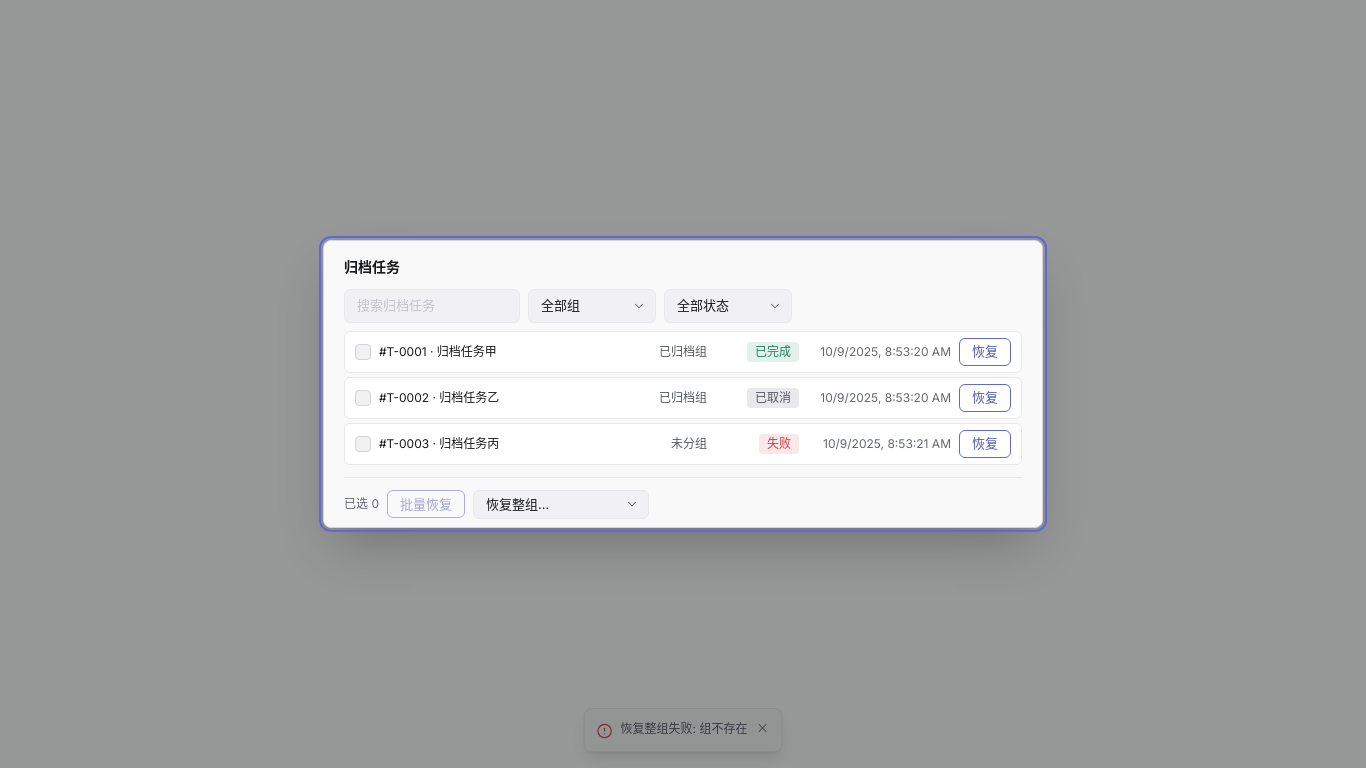
Test case: ArchivePanel › 单条恢复失败：toast 提示且行保留
This screenshot has width=1366, height=768.
Expected: the text "#T-0001 · 归档任务甲" is shown, [379,344,497,358]
Click the button "恢复" in the row of "已完成" at x=985, y=352, box [959,338,1011,366]
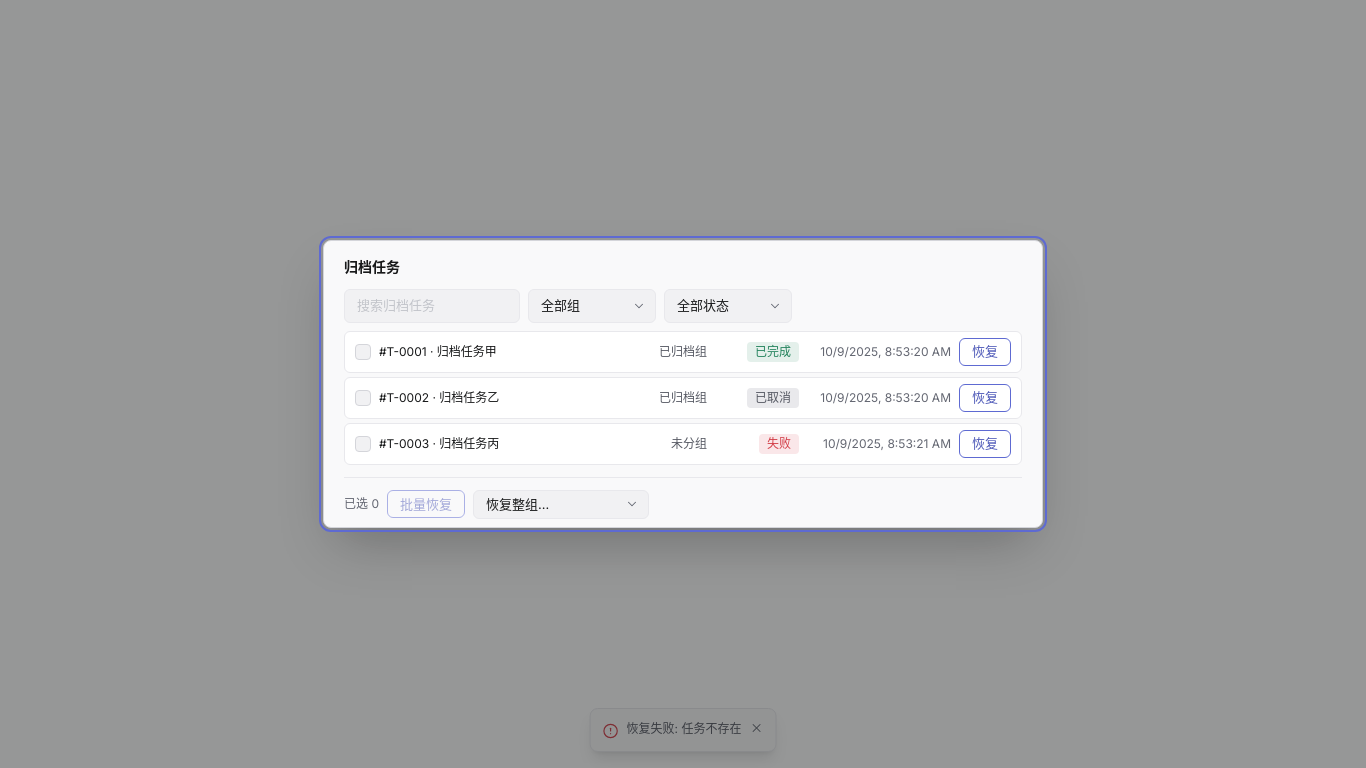
Expected: the message "恢复失败: 任务不存在" is shown, [590,708,776,752]
Expected: the text "恢复失败: 任务不存在" is shown, [627,721,741,737]
